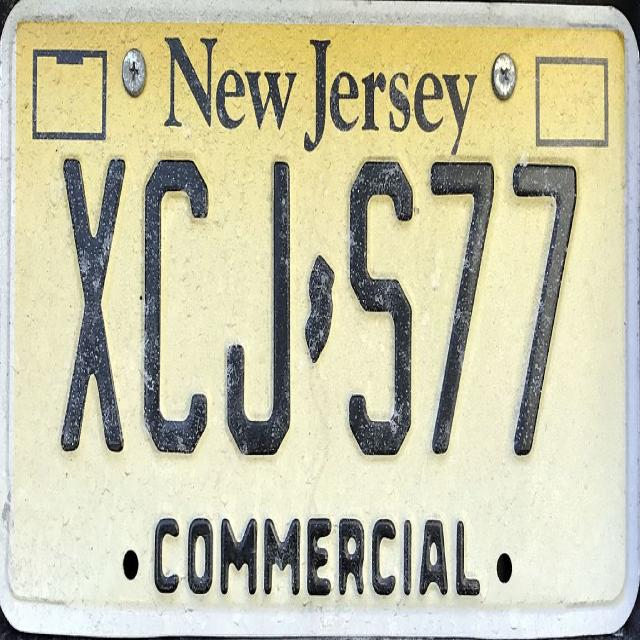placa: (18, 134, 617, 499)
